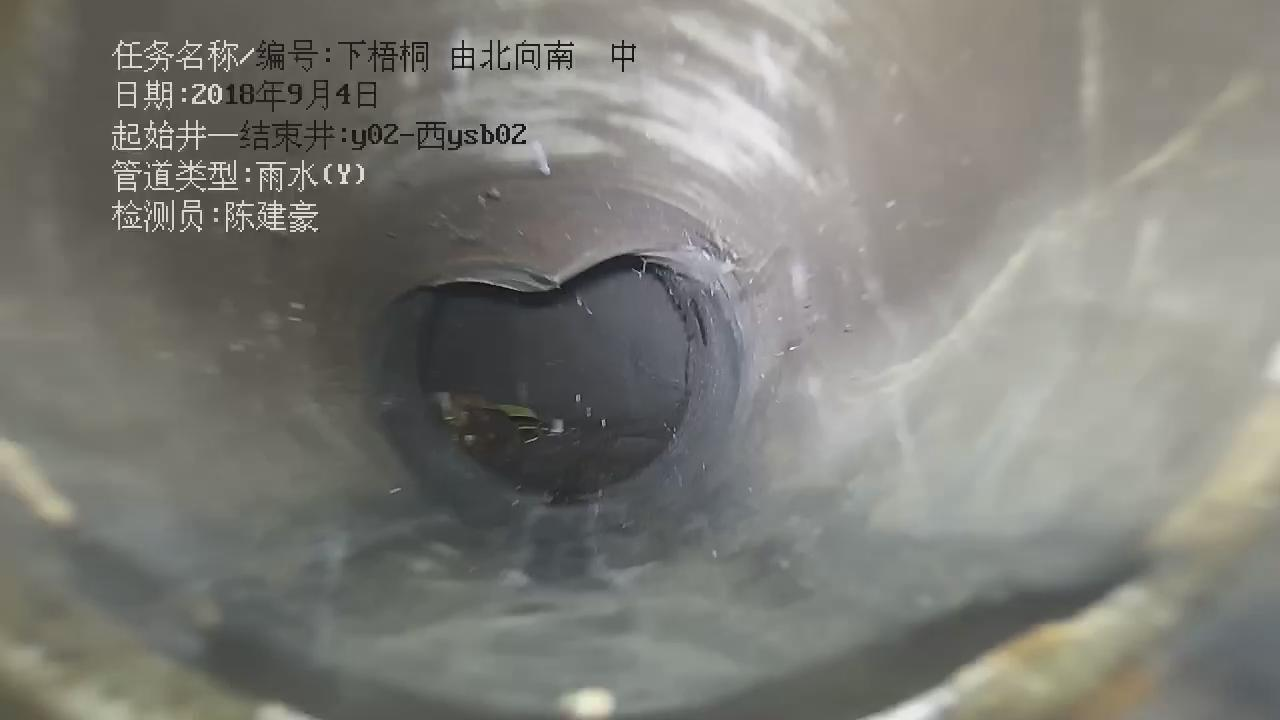BX: (389, 224, 747, 485)
